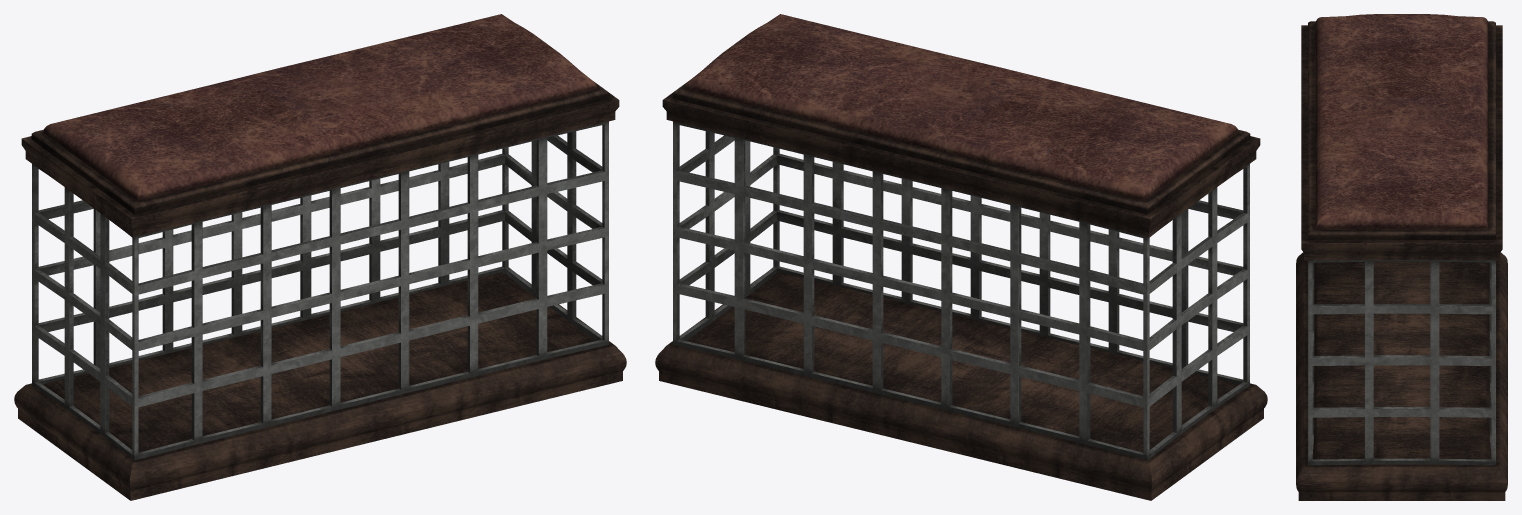
Rendered from dungeoncager.fbx.
3 views of the same model, side by side, from view 1: azimuth 30°, elevation 25°; view 2: azimuth 150°, elevation 25°; view 3: azimuth 270°, elevation 25° (orthographic). The views are drawn at different scales.
Parts seen in each view (by area): view 1: Käfig-Längs; view 2: Käfig-Längs; view 3: Käfig-Längs.
Boxes of the visible parts, x1,y1,x2,y2 form: Käfig-Längs: [14, 14, 626, 500]; Käfig-Längs: [655, 14, 1267, 500]; Käfig-Längs: [1296, 14, 1507, 500].
Bounding box in the file's own units: 509 × 297 × 205.
